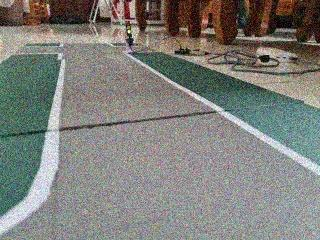green: (121, 17, 132, 43)
